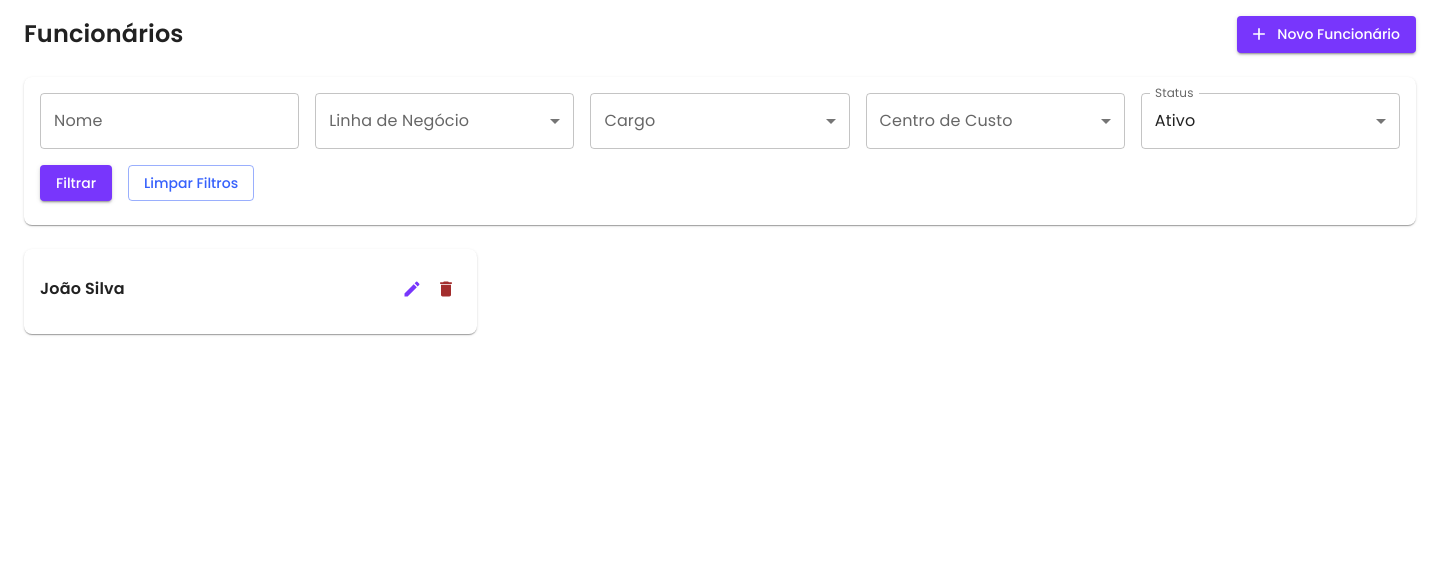
Test: Funcionarios page › shows N/A for missing optional fields on hover
Expected: the heading "João Silva" is shown, [40, 277, 125, 300]
Hover over the text "João Silva".
mouse_move(251, 292)  # box [24, 249, 477, 334]
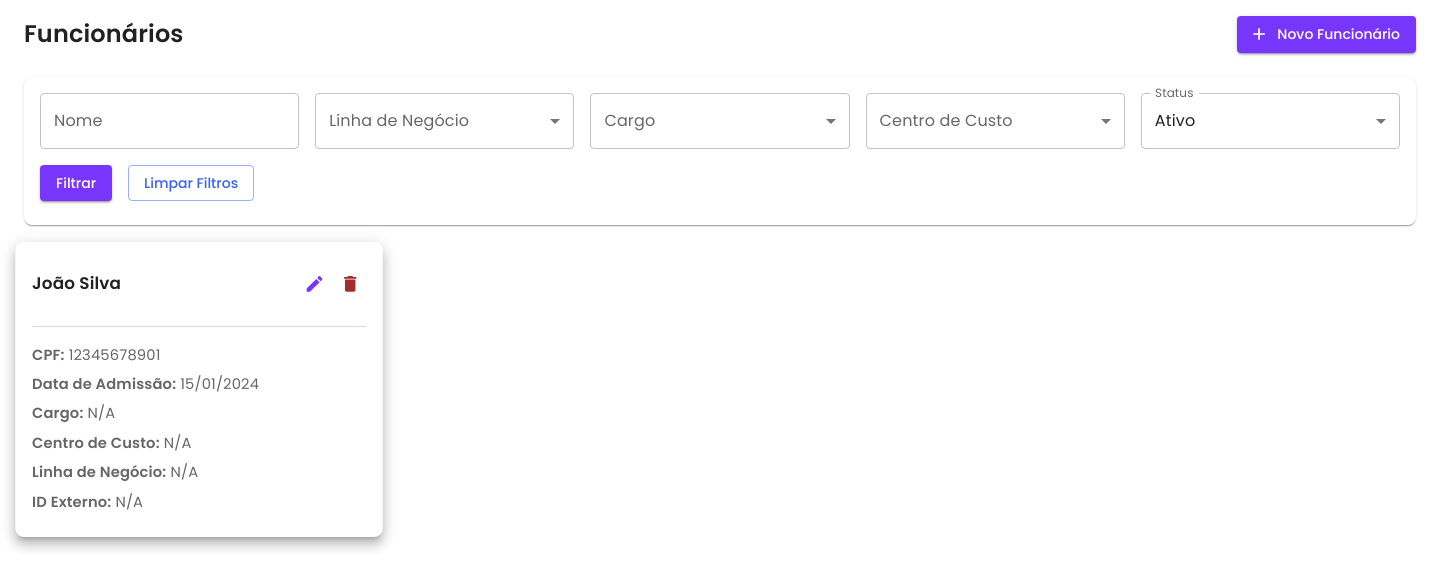
Now the text "N/A" is shown, box [88, 403, 115, 424]
